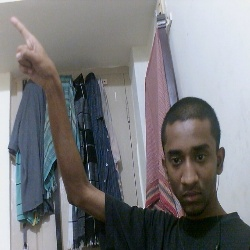hand: (4, 14, 61, 96)
